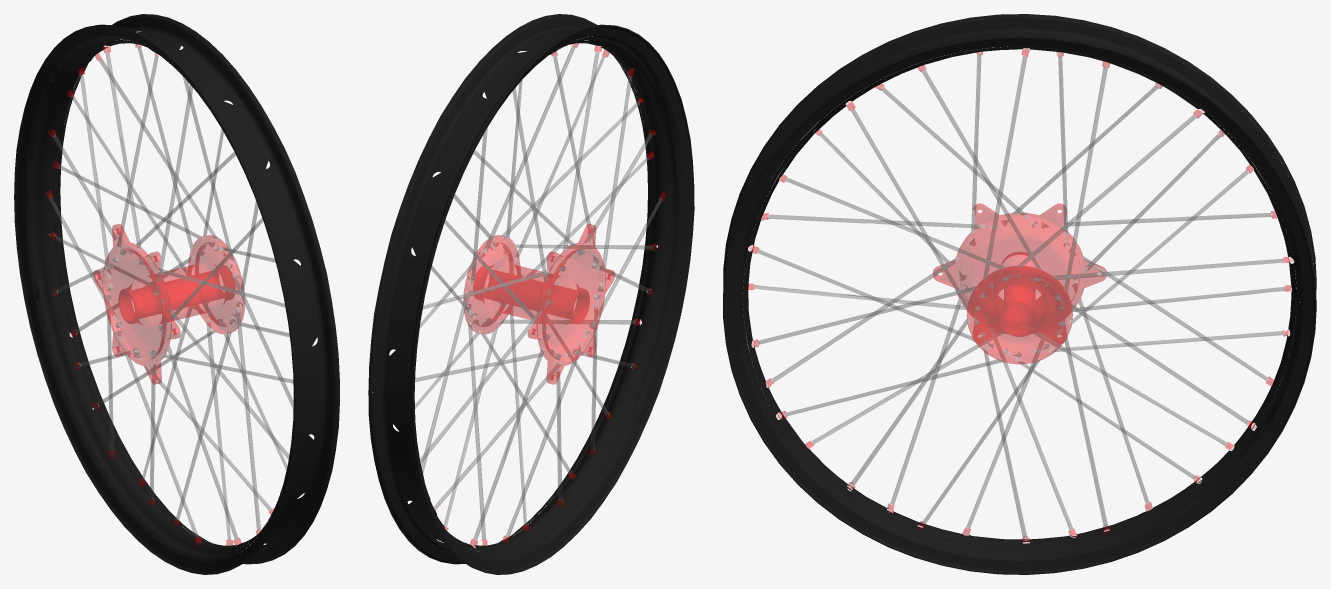
The model's file is FrontWheelV2.glb.
3 renders of one model, left to right at view 1: azimuth 30°, elevation 25°; view 2: azimuth 150°, elevation 25°; view 3: azimuth 270°, elevation 25°, orthographic. The views are drawn at different scales.
Parts seen in each view (by area): view 1: Front_Rim, Front_Spokes, Front_Hub, Front_Nipples; view 2: Front_Rim, Front_Spokes, Front_Hub, Front_Nipples; view 3: Front_Rim, Front_Spokes, Front_Hub, Front_Nipples.
Part boxes in pixels (box(x1,y1,x2,y2)): Front_Rim: box(14, 14, 339, 574); Front_Spokes: box(49, 47, 293, 539); Front_Hub: box(93, 224, 244, 384); Front_Nipples: box(46, 44, 273, 545); Front_Rim: box(368, 14, 694, 574); Front_Spokes: box(415, 46, 662, 539); Front_Hub: box(463, 224, 614, 384); Front_Nipples: box(395, 43, 666, 547); Front_Rim: box(723, 14, 1316, 574); Front_Spokes: box(755, 54, 1284, 538); Front_Hub: box(933, 203, 1106, 364); Front_Nipples: box(748, 48, 1293, 544).
Bounding box in the file's own units: 1.14 × 5.6 × 5.6.
